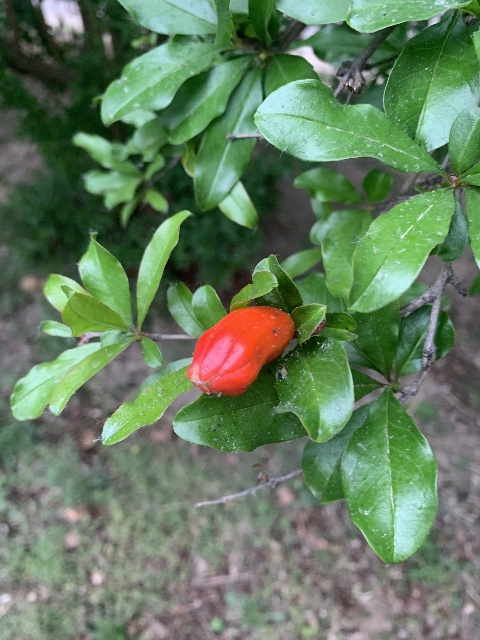bud: (185, 304, 295, 397)
